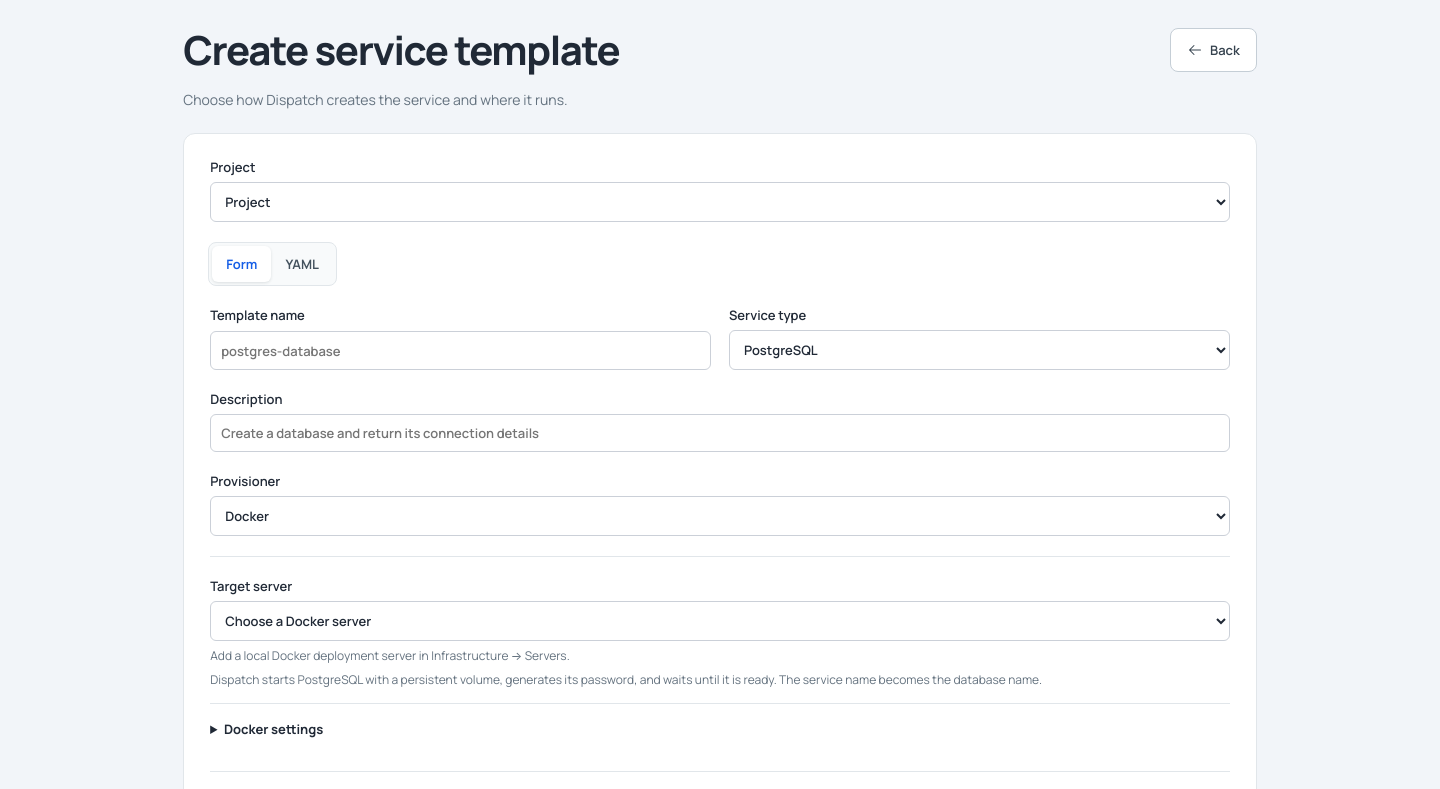
Test: keeps YAML errors visible without losing the document
Click the button "YAML": (302, 264) x1=271 y1=246 x2=333 y2=282
(page scrolled)
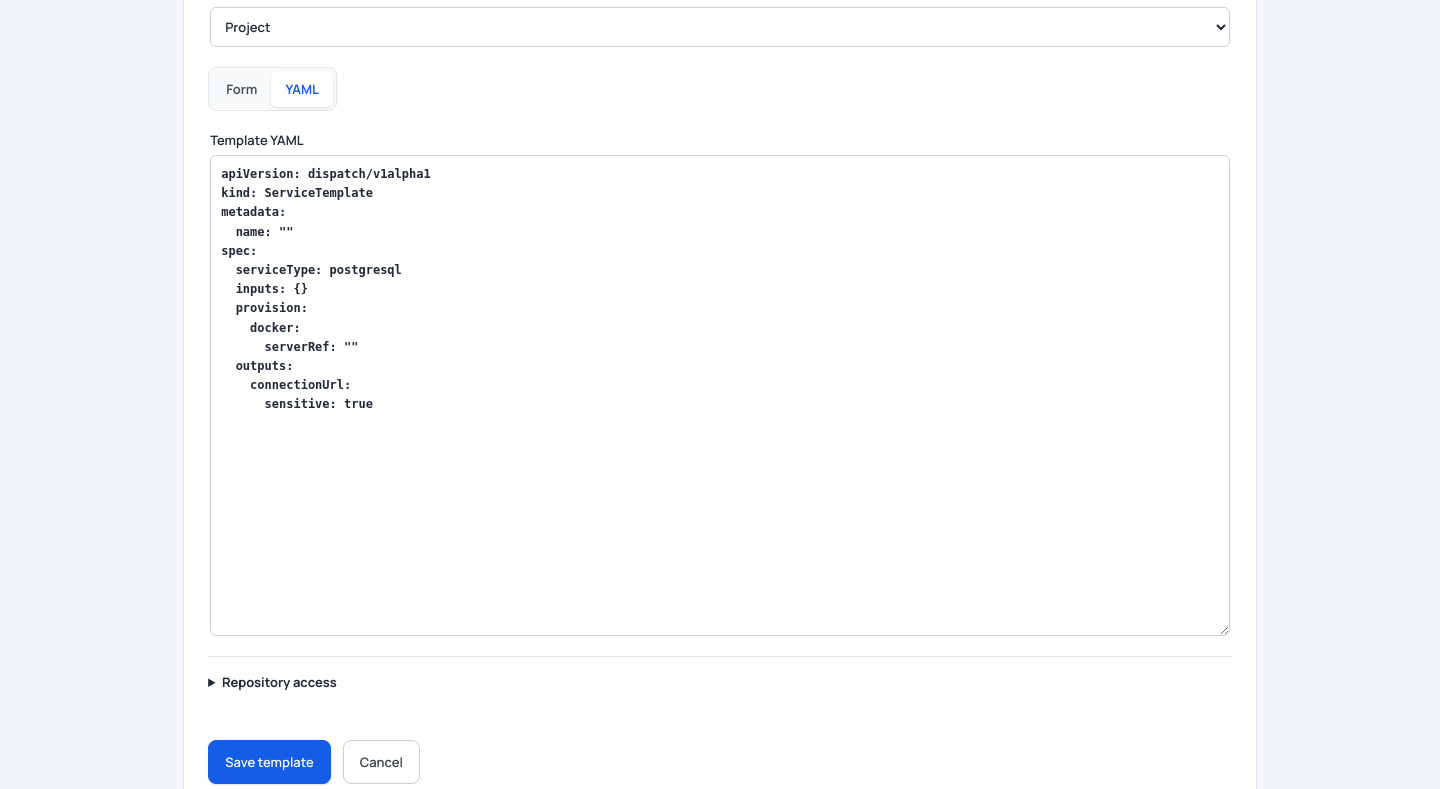
Replace the text in the text box labelled "Template YAML" with "invalid: [": (720, 395) x1=210 y1=155 x2=1230 y2=636
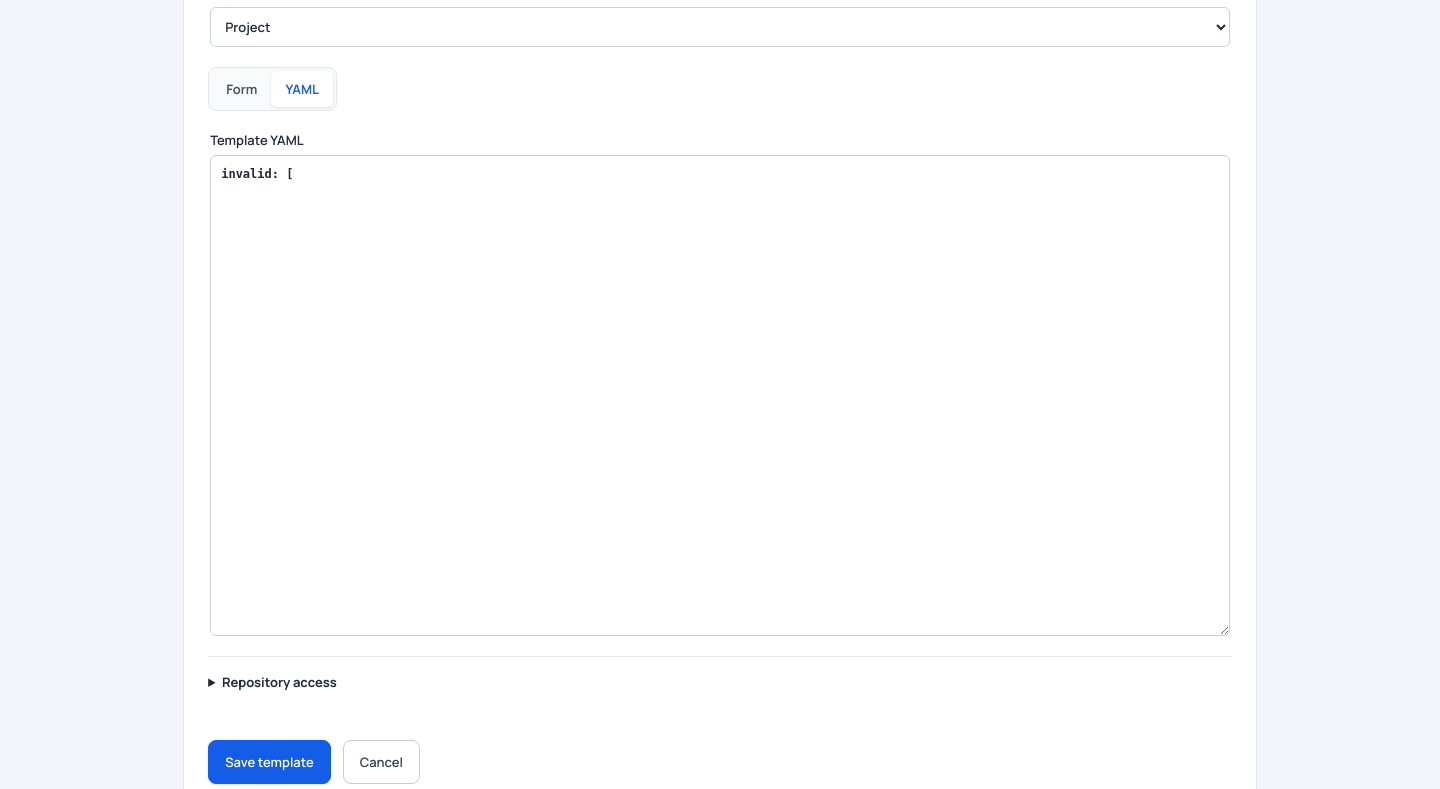
Click the button "Form": (242, 89) x1=212 y1=71 x2=271 y2=107
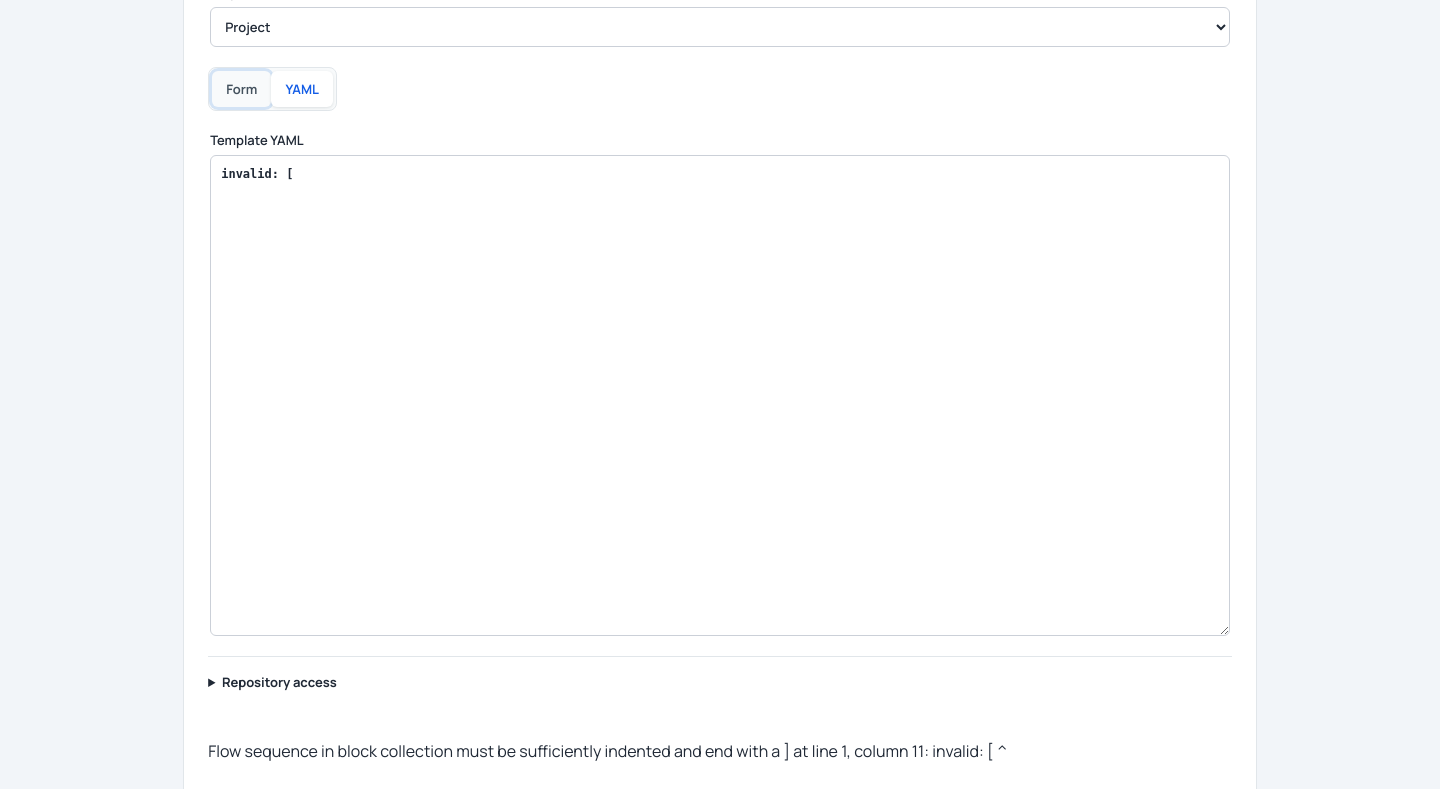
Expected: the message is shown, x1=208 y1=740 x2=1007 y2=762
